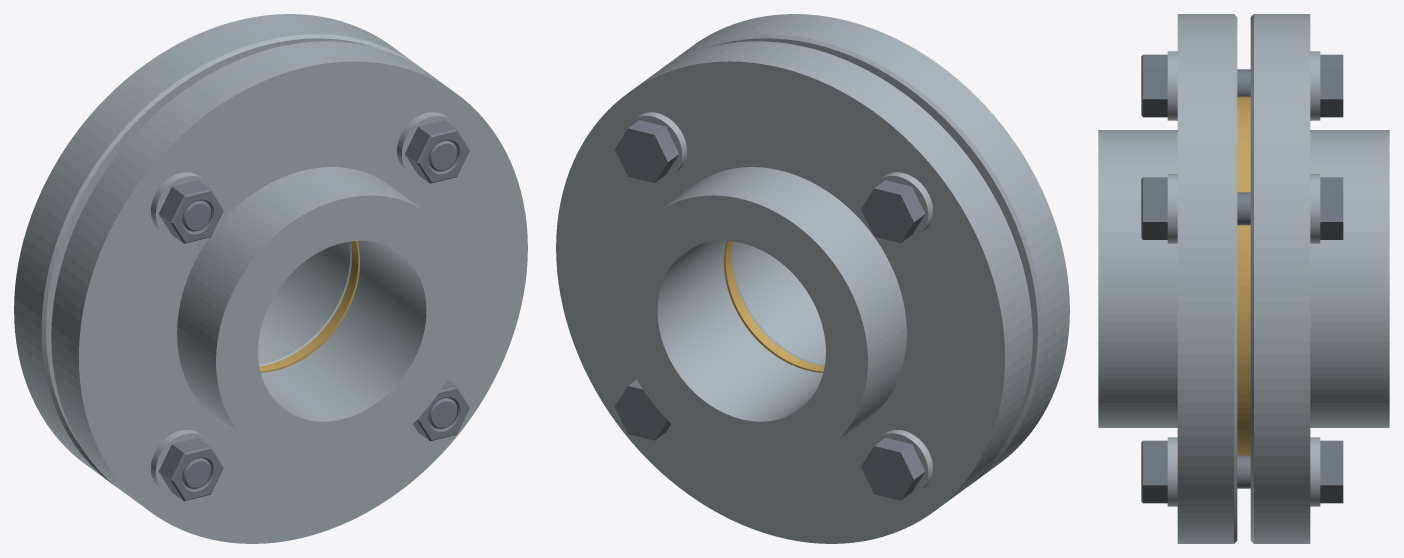
3 views of the same model, side by side, from view 1: azimuth 30°, elevation 25°; view 2: azimuth 150°, elevation 25°; view 3: azimuth 270°, elevation 25° (orthographic). The views are drawn at different scales.
Visible parts, largest first — view 1: upper-flange, lower-flange, nut-1, nut-2, nut-3, seal, nut-4, washer-upper-1, washer-upper-2, washer-upper-3, bolt-1, bolt-2 (+2 smaller); view 2: lower-flange, upper-flange, bolt-1, bolt-2, bolt-3, bolt-4, seal, washer-lower-1, washer-lower-2, washer-lower-3; view 3: lower-flange, upper-flange, seal, bolt-4, bolt-1, bolt-2, nut-2, nut-4, nut-1, washer-upper-1, washer-lower-1, washer-upper-2 (+3 smaller).
Part boxes in pixels (x1,y1,x2,y2): upper-flange: (51, 41, 527, 543); lower-flange: (14, 14, 422, 486); nut-1: (405, 120, 469, 183); nut-2: (158, 180, 223, 243); nut-3: (158, 437, 223, 501); seal: (259, 241, 359, 372); nut-4: (413, 379, 469, 441); washer-upper-1: (397, 112, 459, 178); washer-upper-2: (151, 172, 213, 238); washer-upper-3: (151, 430, 213, 496); bolt-1: (428, 140, 457, 171); bolt-2: (182, 200, 211, 231); lower-flange: (556, 41, 1032, 543); upper-flange: (661, 14, 1069, 486); bolt-1: (614, 120, 678, 182); bolt-2: (861, 180, 925, 243); bolt-3: (861, 437, 925, 500); bolt-4: (615, 379, 670, 440); seal: (724, 241, 824, 372); washer-lower-1: (623, 112, 686, 178); washer-lower-2: (870, 172, 932, 238); washer-lower-3: (870, 430, 932, 496); lower-flange: (1250, 14, 1389, 543); upper-flange: (1098, 14, 1237, 543); seal: (1237, 96, 1250, 455); bolt-4: (1237, 440, 1343, 503); bolt-1: (1237, 177, 1343, 239); bolt-2: (1237, 54, 1343, 117); nut-2: (1141, 54, 1167, 117); nut-4: (1141, 440, 1167, 503); nut-1: (1141, 177, 1167, 239); washer-upper-1: (1167, 174, 1177, 243); washer-lower-1: (1310, 174, 1320, 243); washer-upper-2: (1167, 51, 1177, 120).
Bounding box in the file's own units: 160 × 160 × 88.
